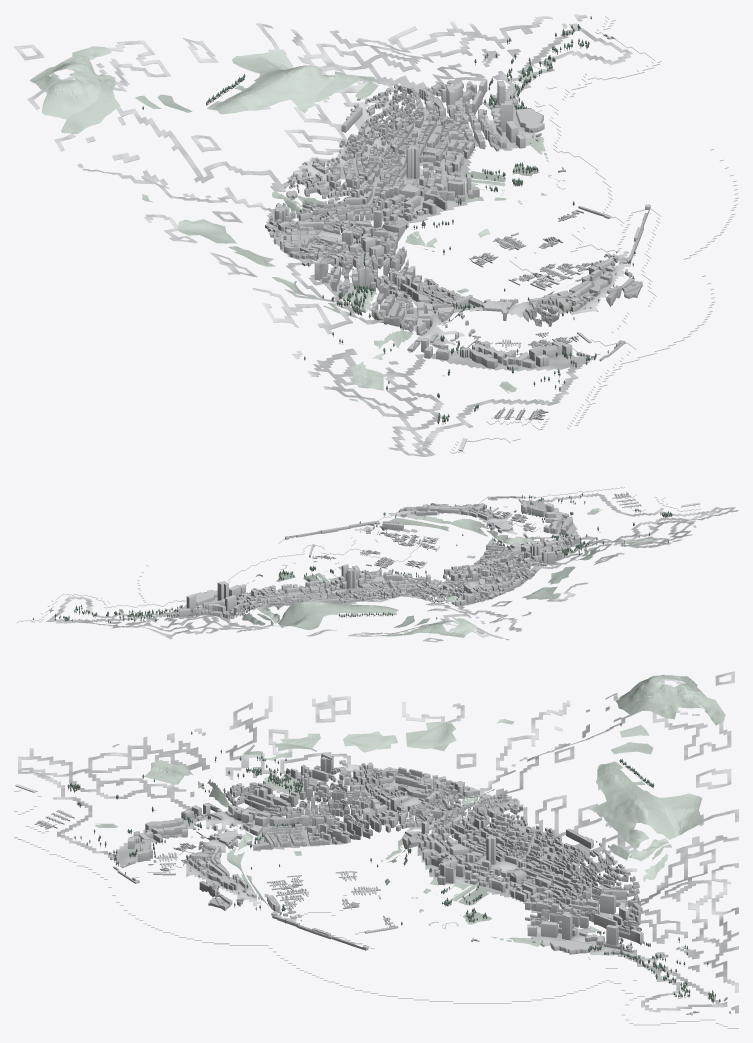
File: city.glb
The picture shows the model from 3 angles, top to bottom: view 1: azimuth 30°, elevation 25°; view 2: azimuth 150°, elevation 25°; view 3: azimuth 270°, elevation 25°; orthographic projection. The views are drawn at different scales.
Parts seen in each view (by area): view 1: building, terrain, park, model, prop, pier, propDark; view 2: building, terrain, park, model, prop, pier, propDark; view 3: building, terrain, park, model, prop, pier.
Boxes of the visible parts, x1,y1,x2,y2 form: building: (265,79,650,370); terrain: (14,14,738,456); park: (29,23,603,450); model: (142,16,635,424); prop: (471,34,615,419); pier: (458,36,616,450); propDark: (471,34,613,418); building: (158,496,581,618); terrain: (17,487,738,642); park: (118,496,714,637); model: (33,493,672,623); prop: (50,491,628,612); pier: (49,495,699,610); propDark: (51,493,628,610); building: (113,753,643,960); terrain: (14,671,738,1028); park: (29,675,727,1001); model: (67,723,730,1013); prop: (34,820,699,1014); pier: (15,784,692,1015).
Bounding box in the file's own units: 2576 × 461 × 2960.
